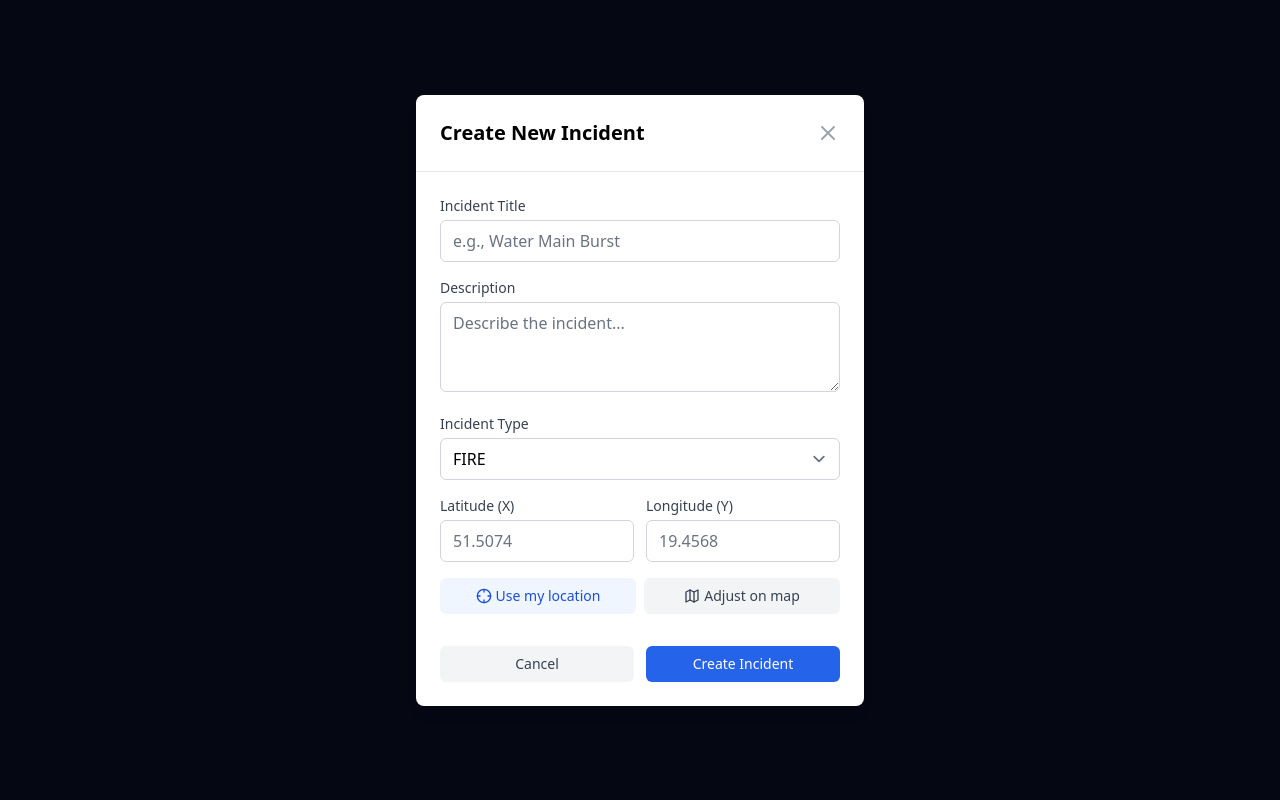
it: CreateIncidentModal › shows an error and stays open when creation fails
The width and height of the screenshot is (1280, 800).
Type "Broken pipe" into the field with placeholder "e.g., Water Main Burst". click: (640, 240)
box: x1=440 y1=220 x2=840 y2=262
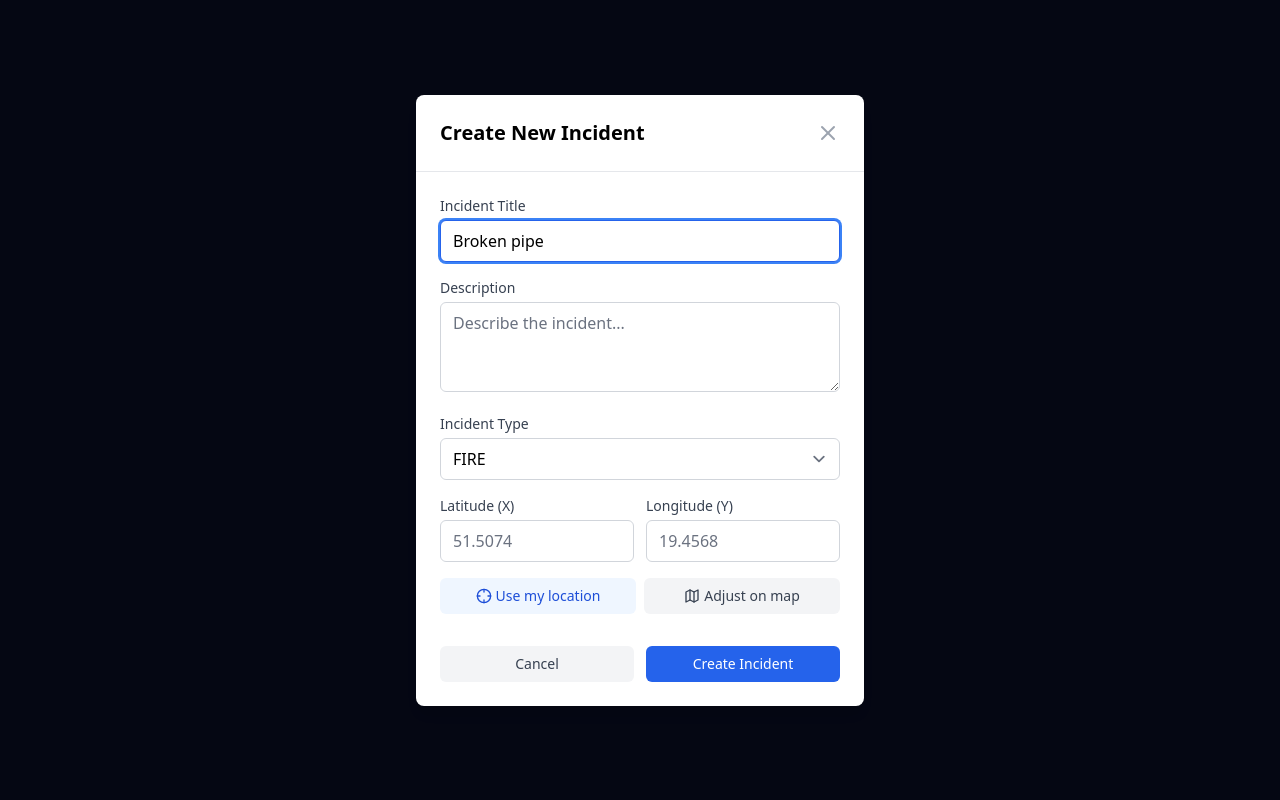
Type "Water on the street" into the text box with placeholder "Describe the incident...". click: (640, 346)
box: x1=440 y1=302 x2=840 y2=392
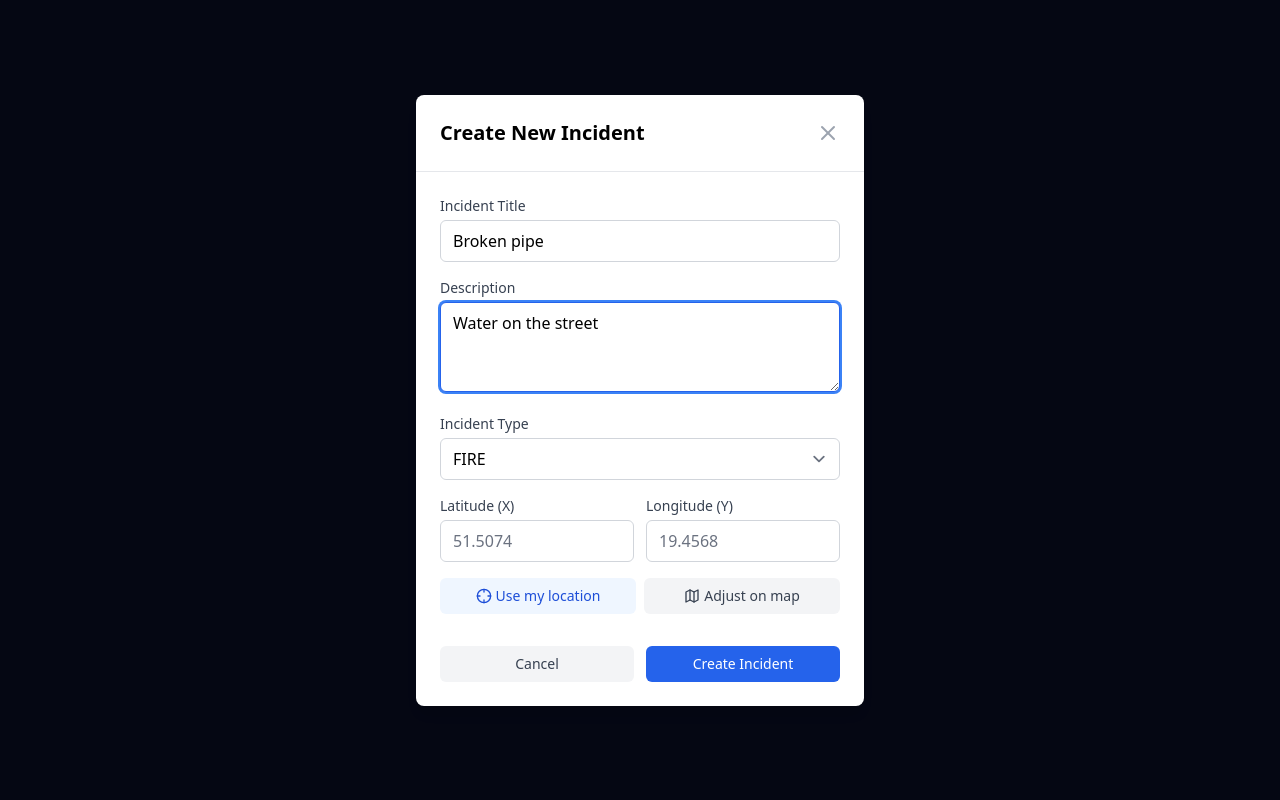
Select "WATER" in the dropdown. click: (640, 458)
box: x1=440 y1=438 x2=840 y2=480
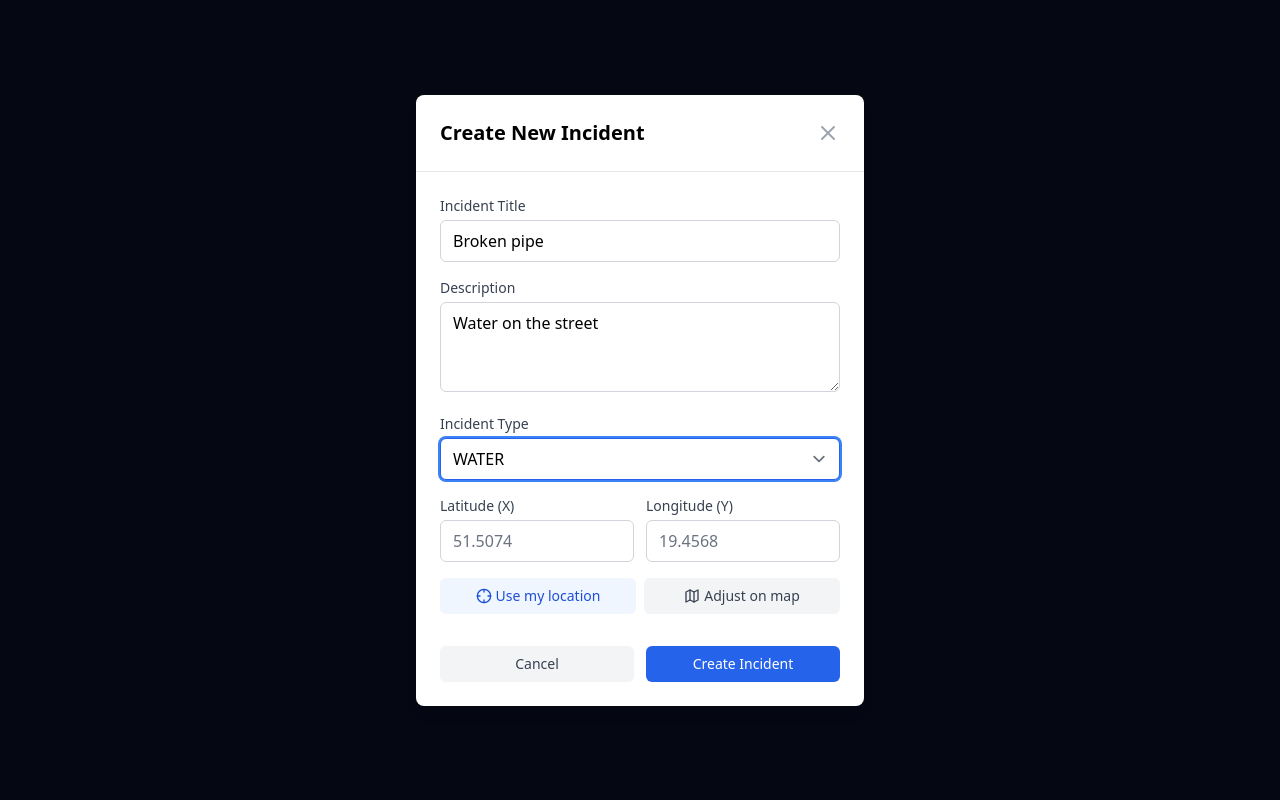
Type "51.7592" into the number field with placeholder "51.5074". click: (537, 540)
box: x1=440 y1=520 x2=634 y2=562
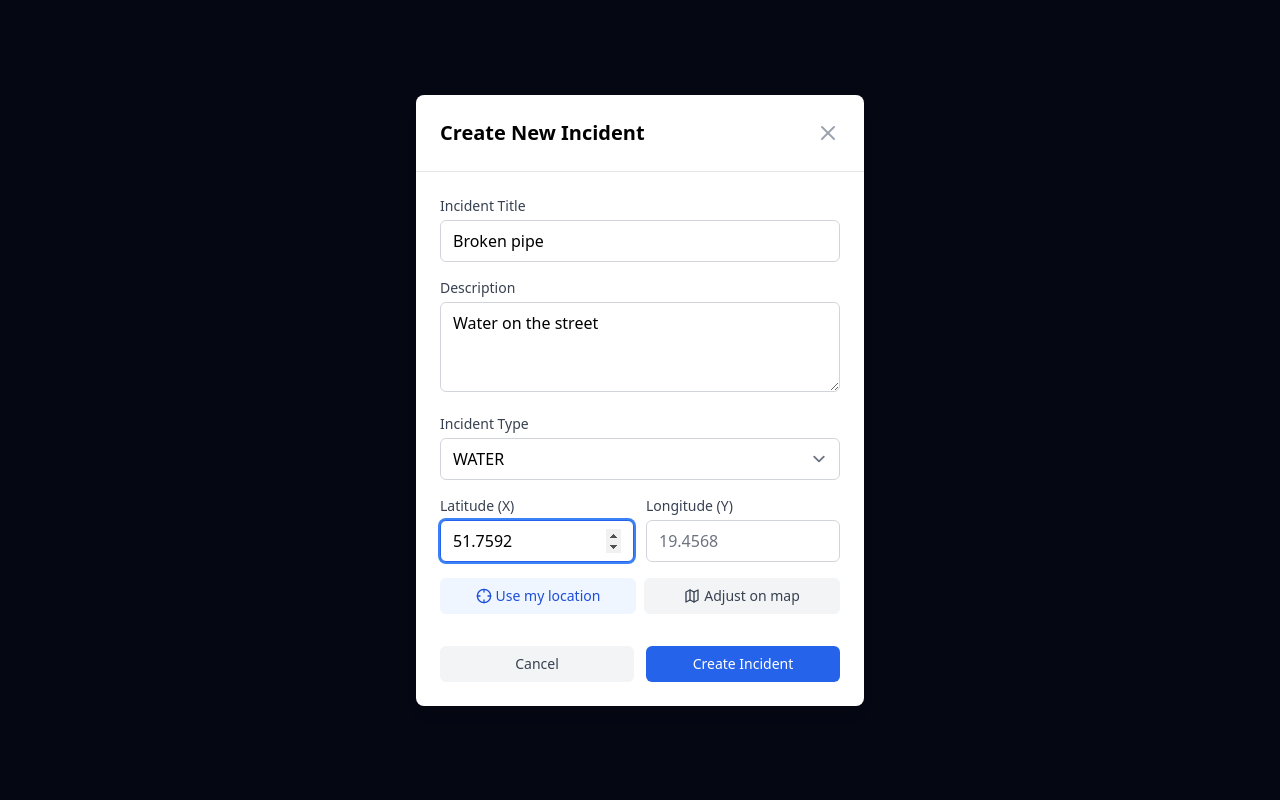
Type "19.456" into the number field with placeholder "19.4568". click: (743, 540)
box: x1=646 y1=520 x2=840 y2=562
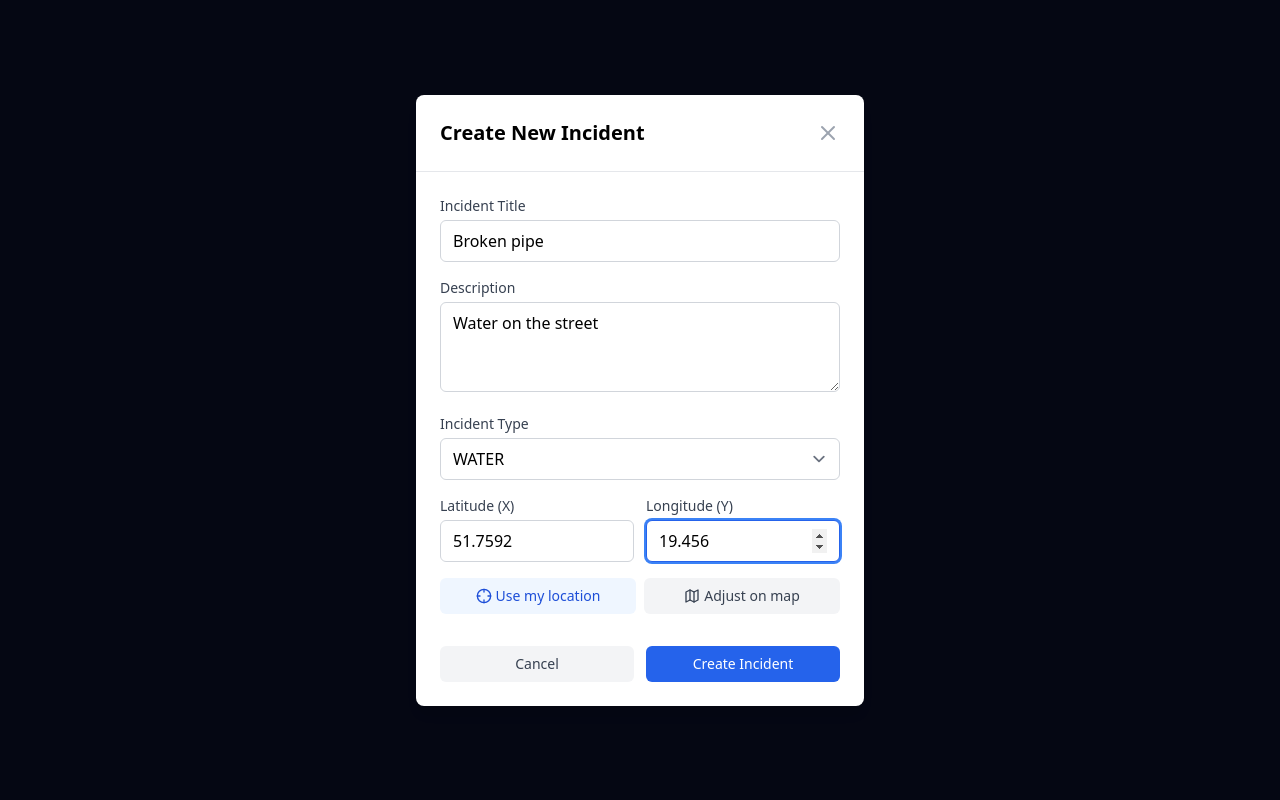
Click the button "Create Incident". click: (743, 664)
box: x1=646 y1=646 x2=840 y2=682
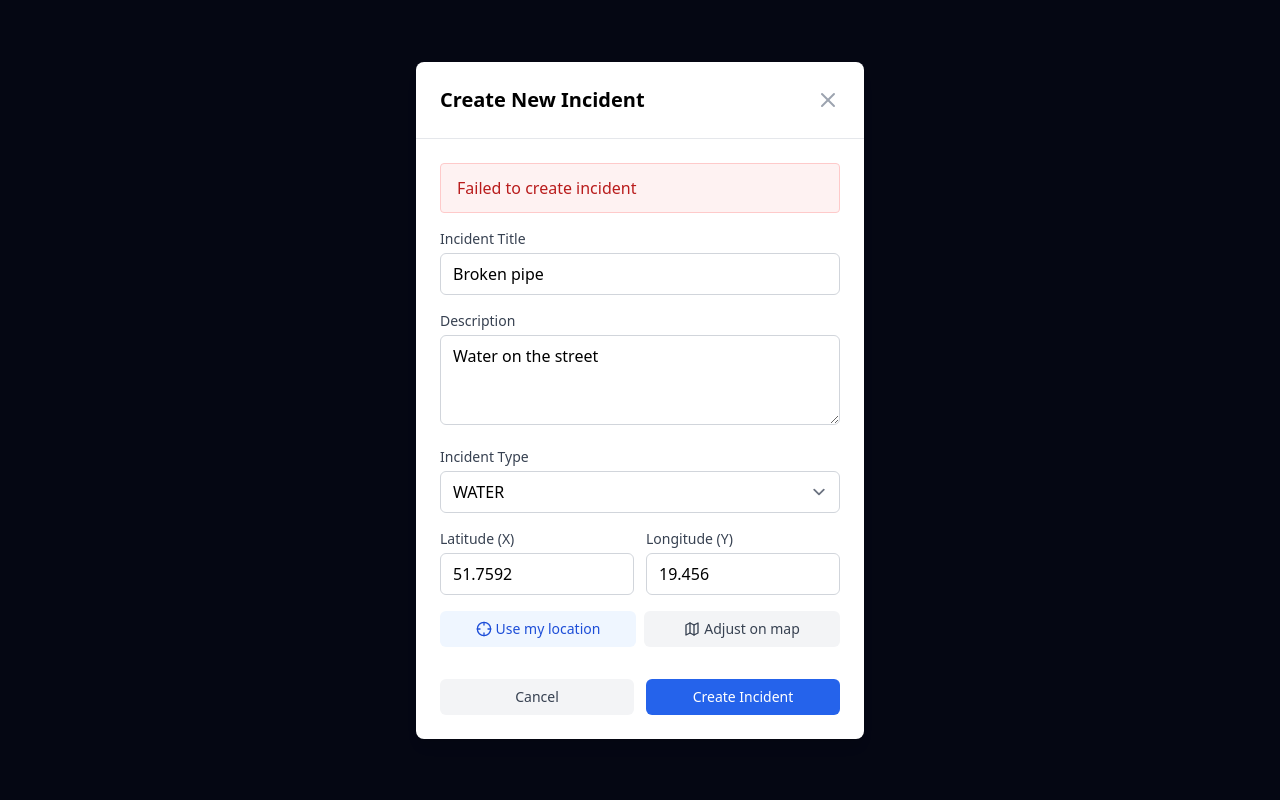
Expected: the text "Failed to create incident" is shown, x1=440 y1=162 x2=840 y2=212
